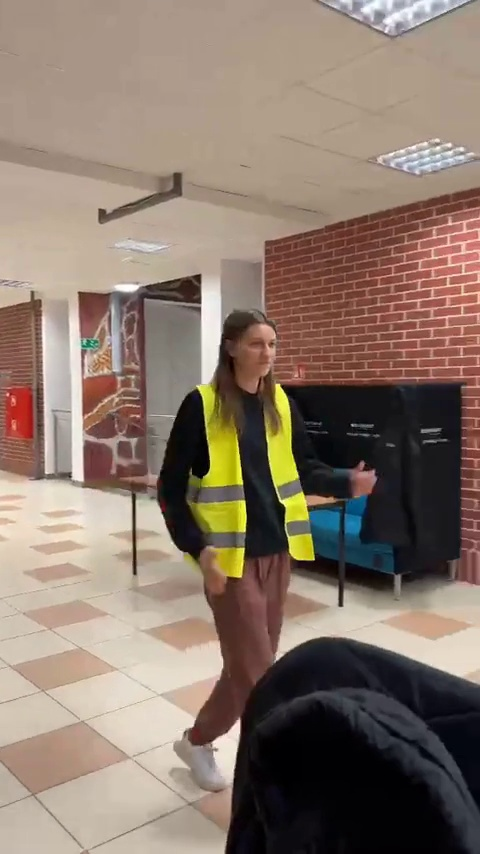vest: (153, 307, 378, 794)
